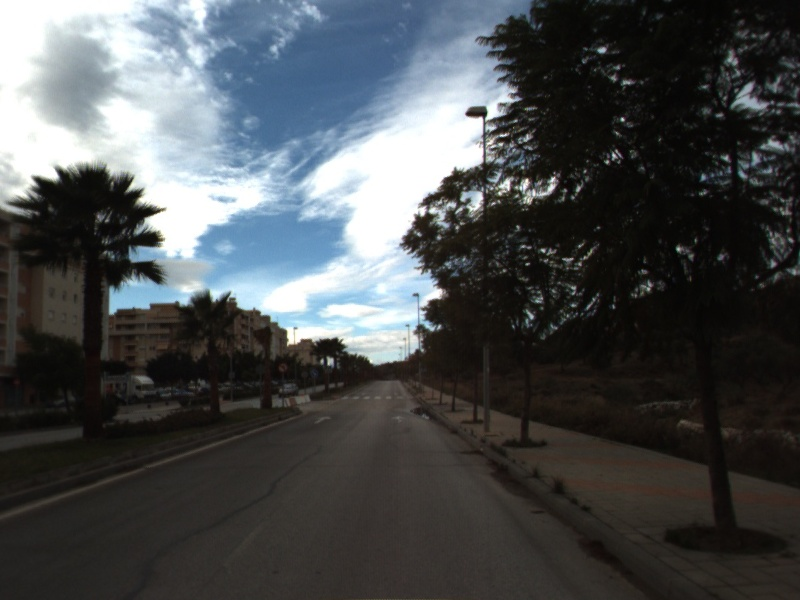STRAIGHT: (312, 414, 334, 426)
